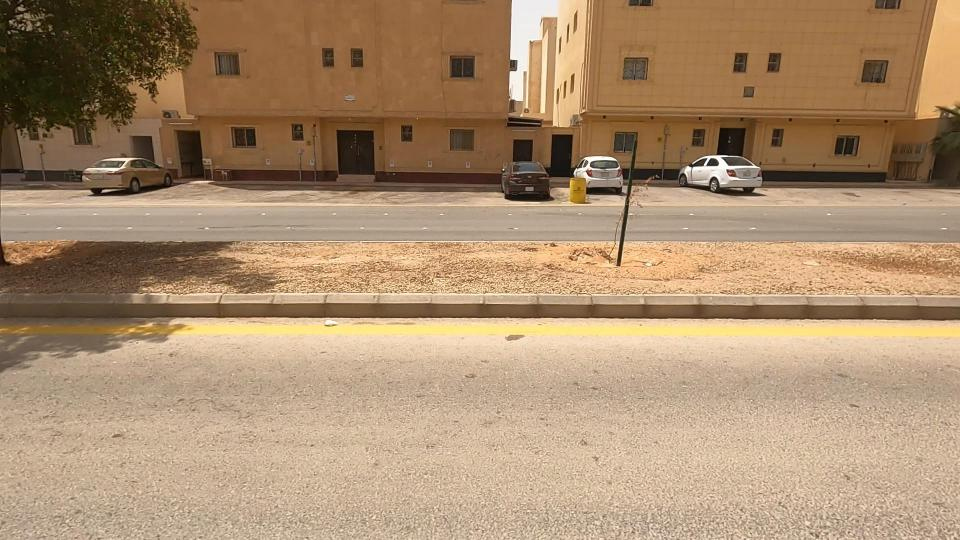CLUTTER_SIDEWALK: (0, 195, 673, 352), (553, 204, 955, 332)
